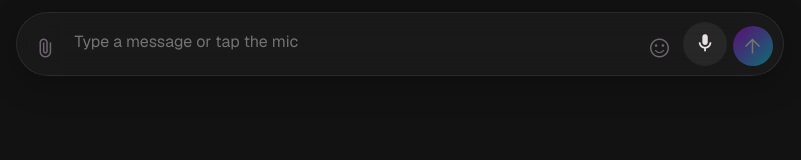
Test: ChatComposer › allows clearing the draft before send
Type "wrong words" into the text box with test id "composer-input" at (352, 44), box [69,22,636,66]
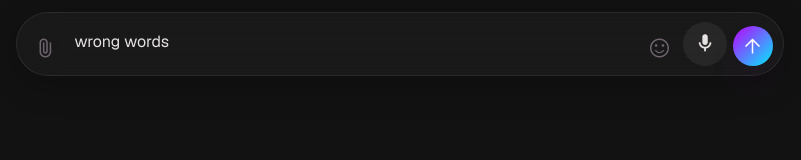
Clear the text box with test id "composer-input" at (352, 44), box [69,22,636,66]
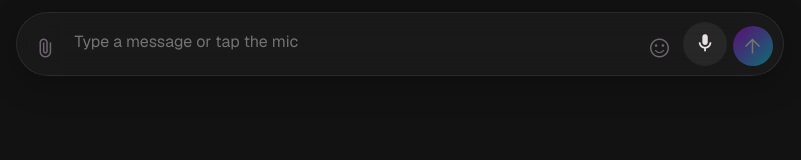
Expected: the button with test id "send-transcript" is disabled, [733,26,773,66]
